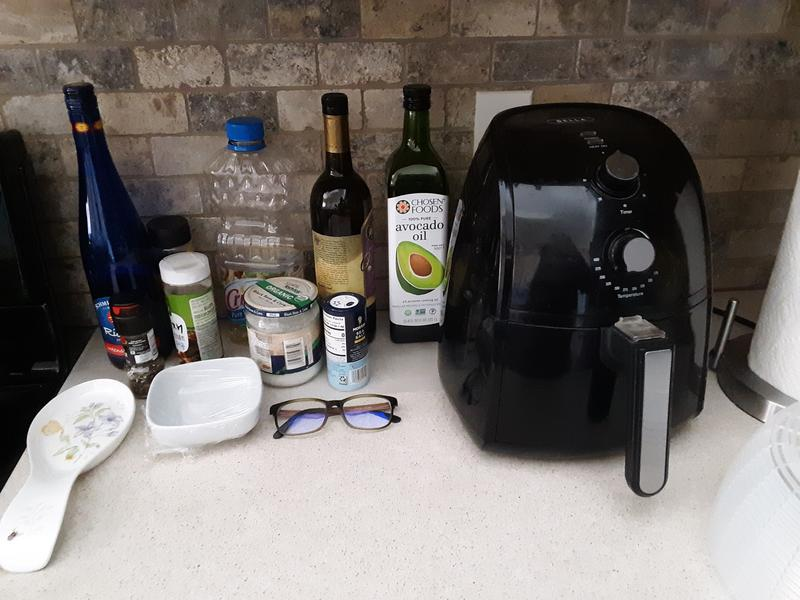glasses: (266, 392, 403, 440)
